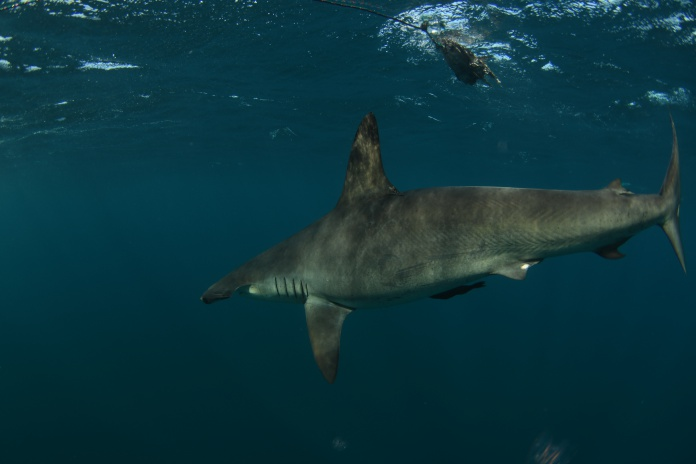Hammer: (185, 92, 696, 388)
